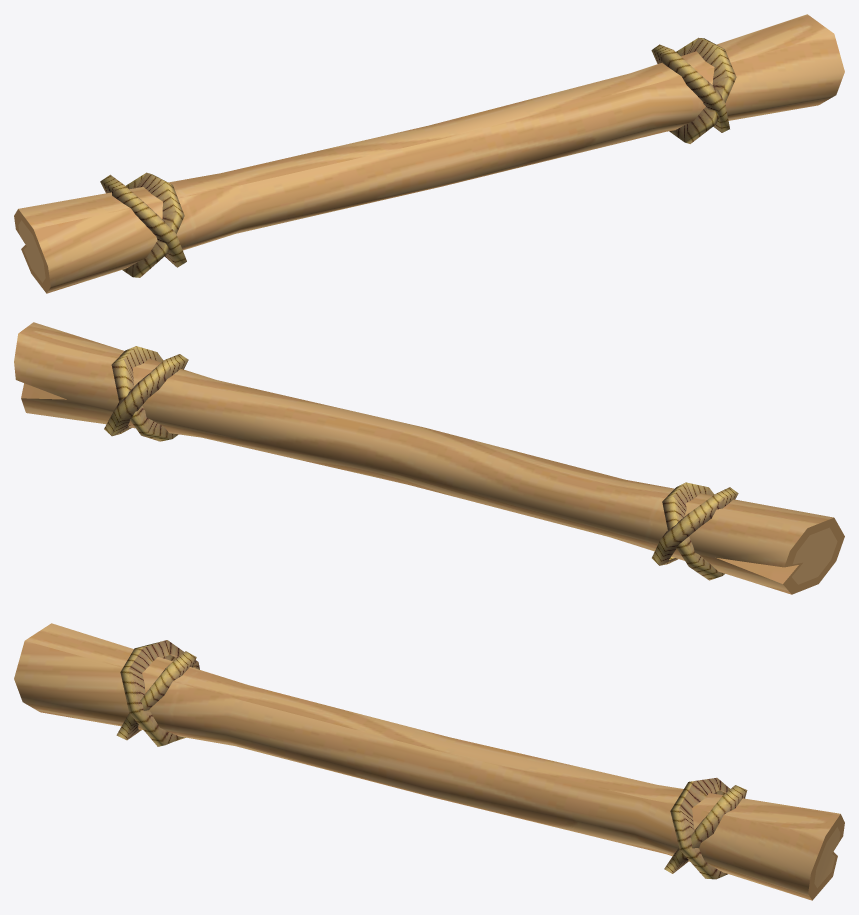
Rendered from DefaultIglooWoodRailing.fbx.
3 views of the same model, one above another, from view 1: azimuth 30°, elevation 25°; view 2: azimuth 150°, elevation 25°; view 3: azimuth 330°, elevation 25° (orthographic).
Visible parts, largest first — view 1: DefaultIglooWoodRailing; view 2: DefaultIglooWoodRailing; view 3: DefaultIglooWoodRailing.
Part boxes in pixels (x1,y1,x2,y2): DefaultIglooWoodRailing: [14, 14, 844, 293]; DefaultIglooWoodRailing: [14, 322, 844, 594]; DefaultIglooWoodRailing: [14, 623, 844, 900].
Bounding box in the file's own units: 215 × 21.08 × 28.05.
